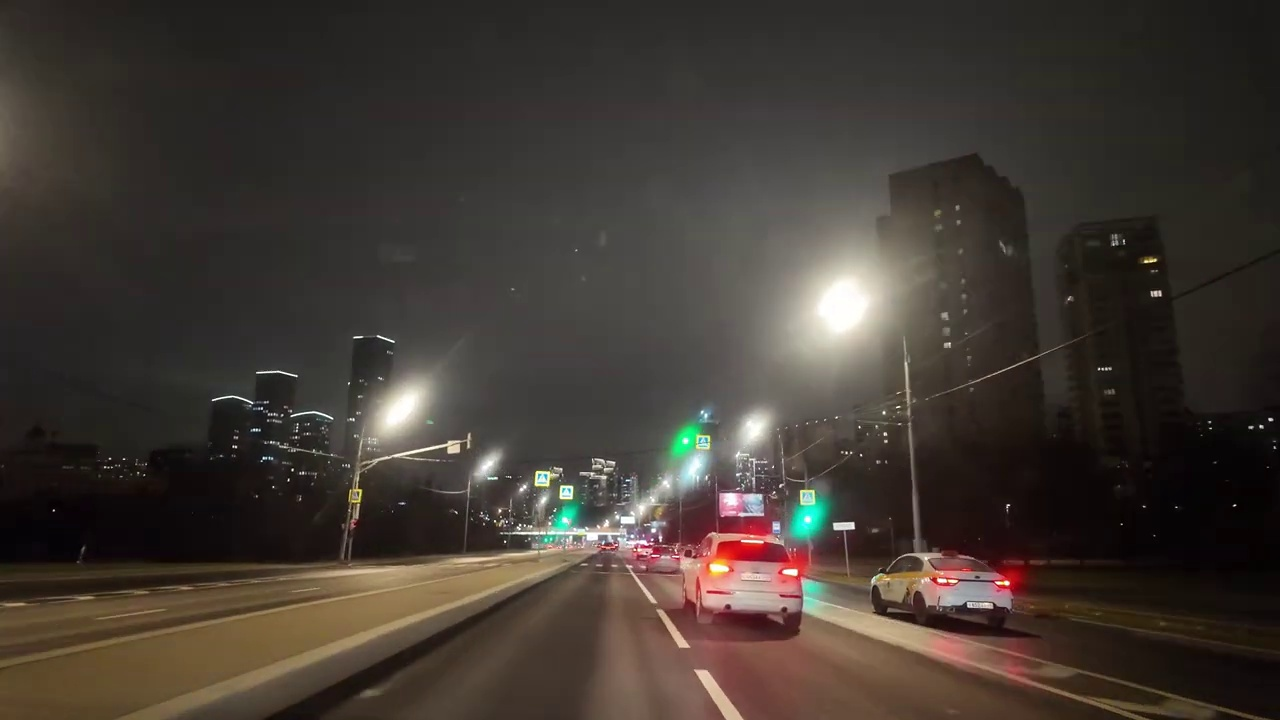acesa: (810, 270, 879, 344), (372, 383, 428, 440), (735, 409, 772, 449)
